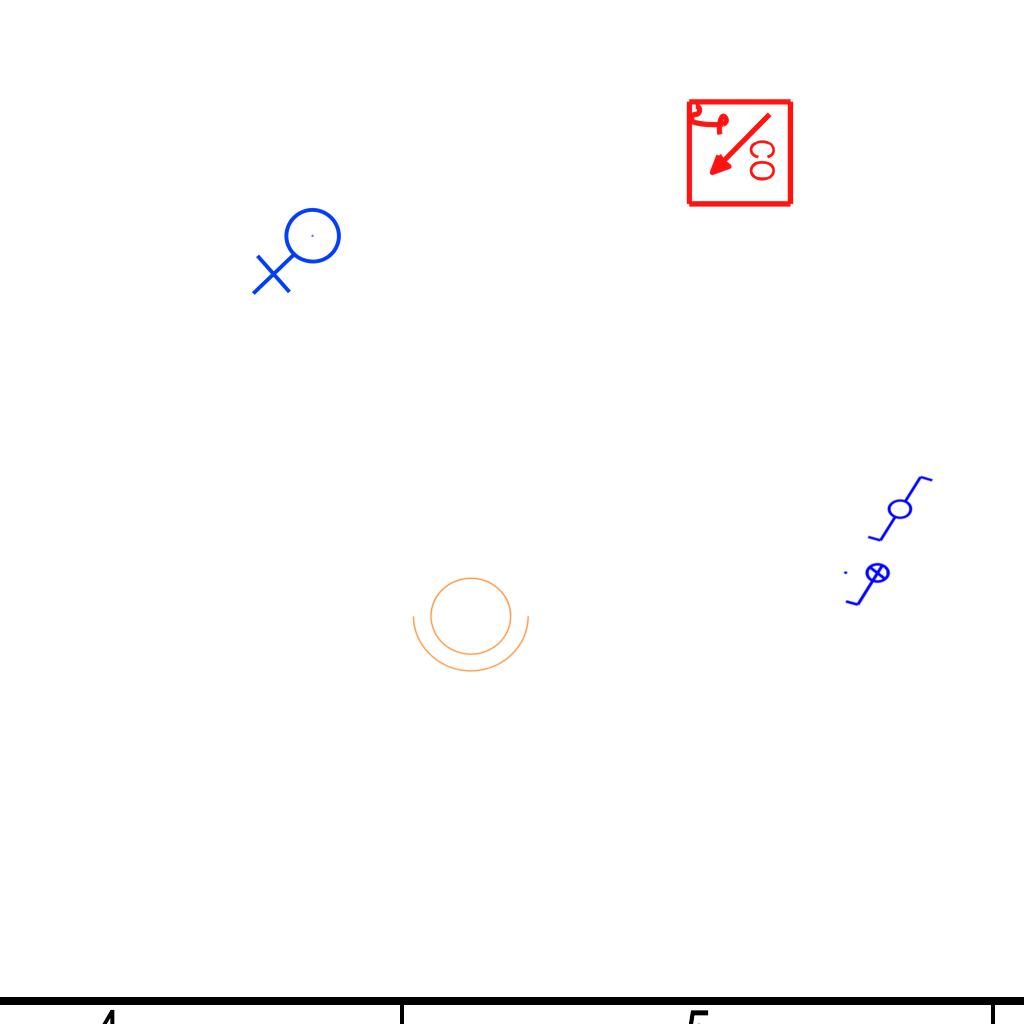Ausschalter_beleuchtet: (841, 562, 897, 610)
Elektroanschluss_allgemein_230V_Geraeteanschlussdose_230V: (251, 206, 350, 300)
ROA_Rauchmelder_optisch_mit_Signalgeber_(Sockelsirene): (682, 97, 795, 210)
Scheinwerfer_fuer_Alarmbeleuchtung: (408, 565, 540, 677)
Wechselschalter: (857, 472, 935, 544)
